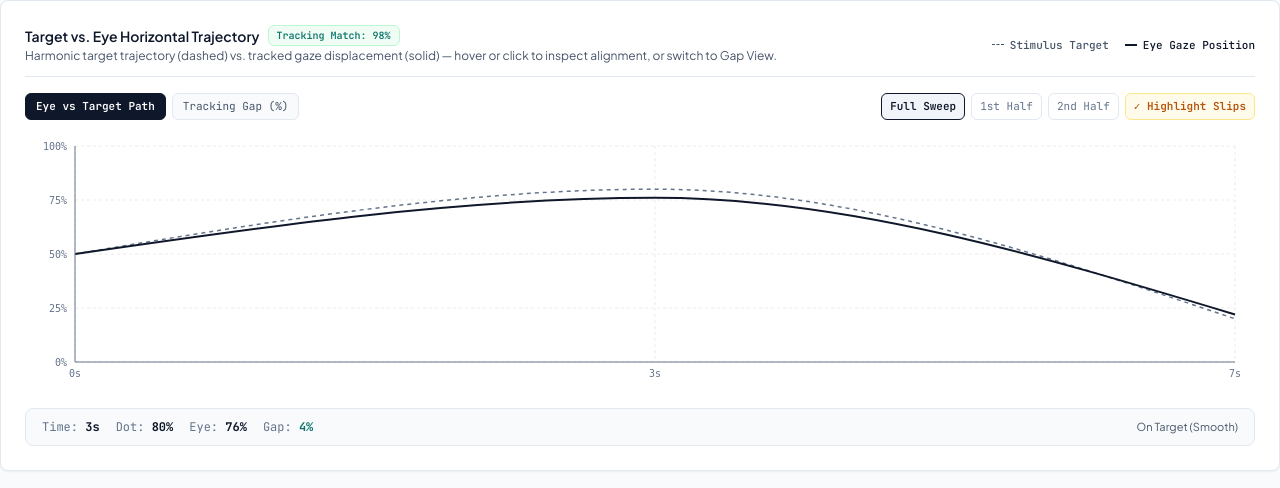
Test: Chart components fallback states › renders interactive trajectory/gap toggle and match badge on SmoothPursuitChart
Check: the text "Tracking Match: 98%" is shown, box [268,25,400,46]
Click the button "Tracking Gap (%)". click: (236, 106)
box: [172,93,299,120]
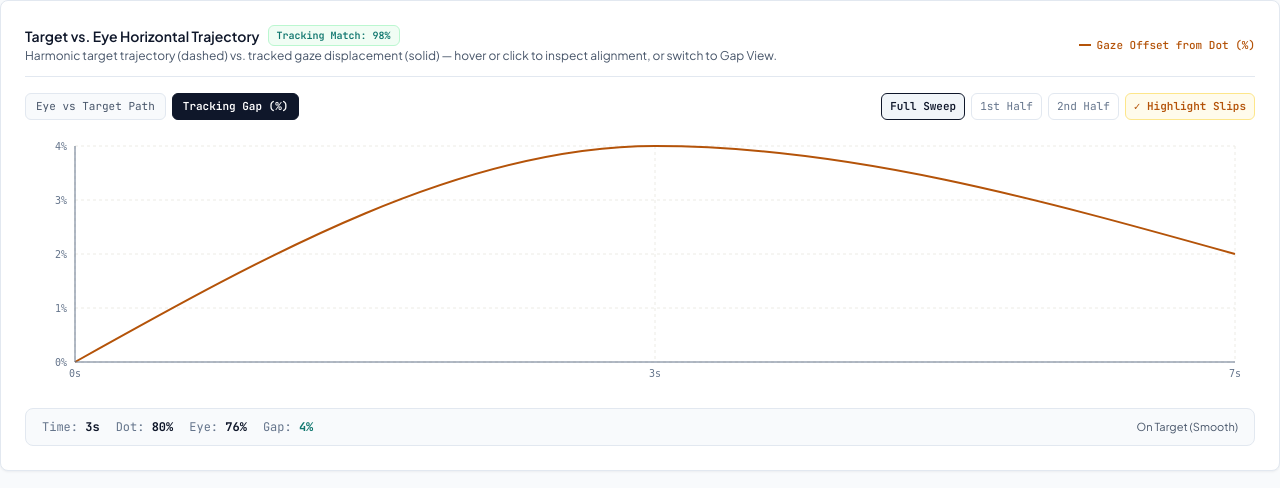
Check: the text "Gaze Offset from Dot (%)" is shown, box [1079,36,1255,52]
